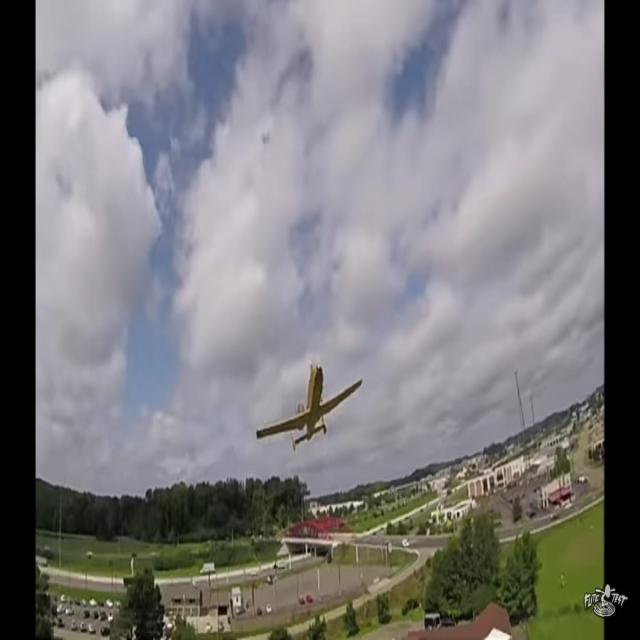iha: (287, 394, 331, 424)
